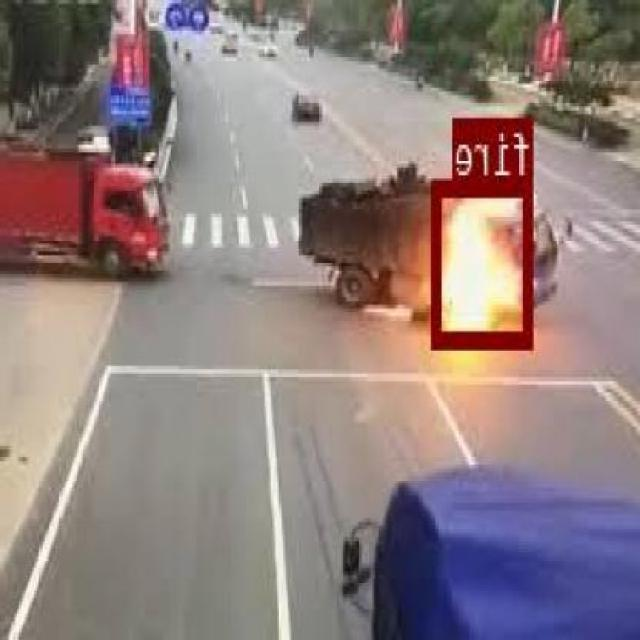Fire: (434, 177, 534, 346)
